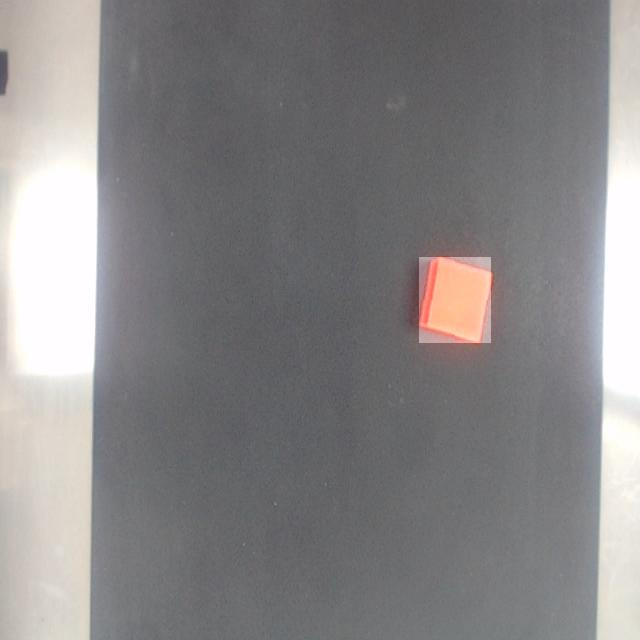Rojo: (419, 257, 491, 343)
